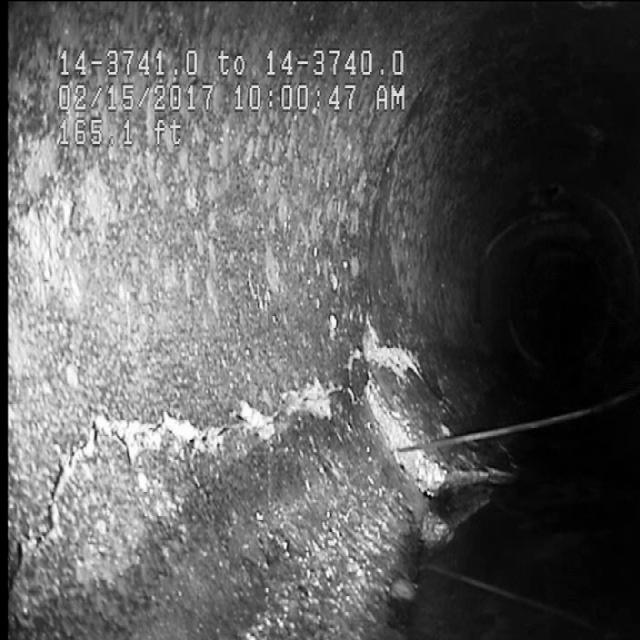Crack: (61, 325, 383, 527)
